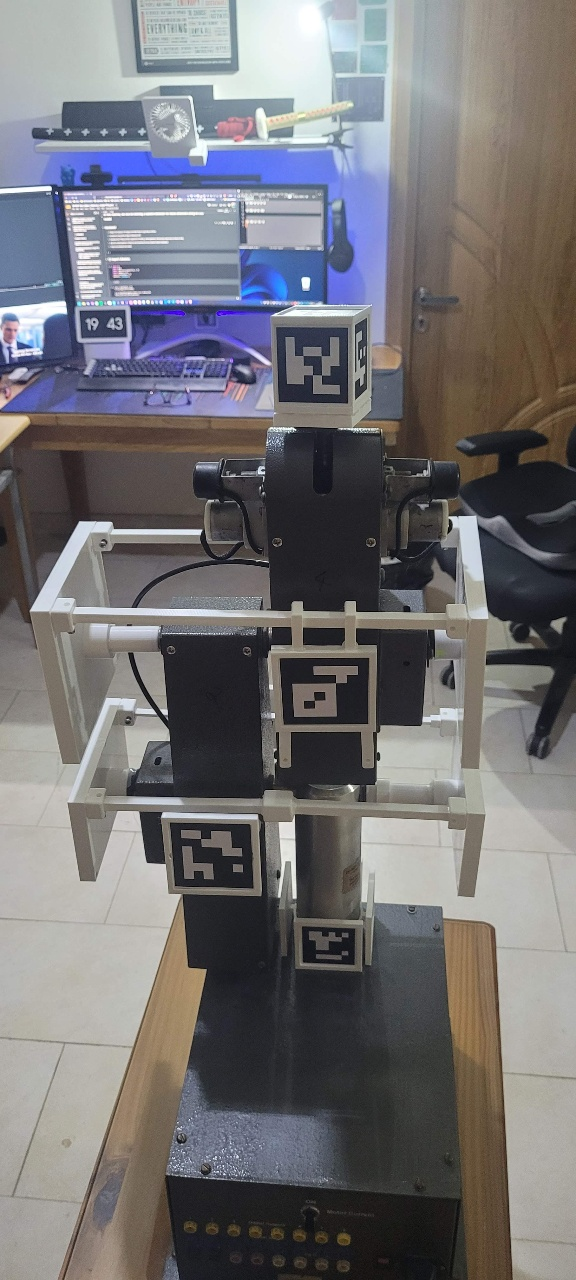Robot: (29, 304, 494, 974)
